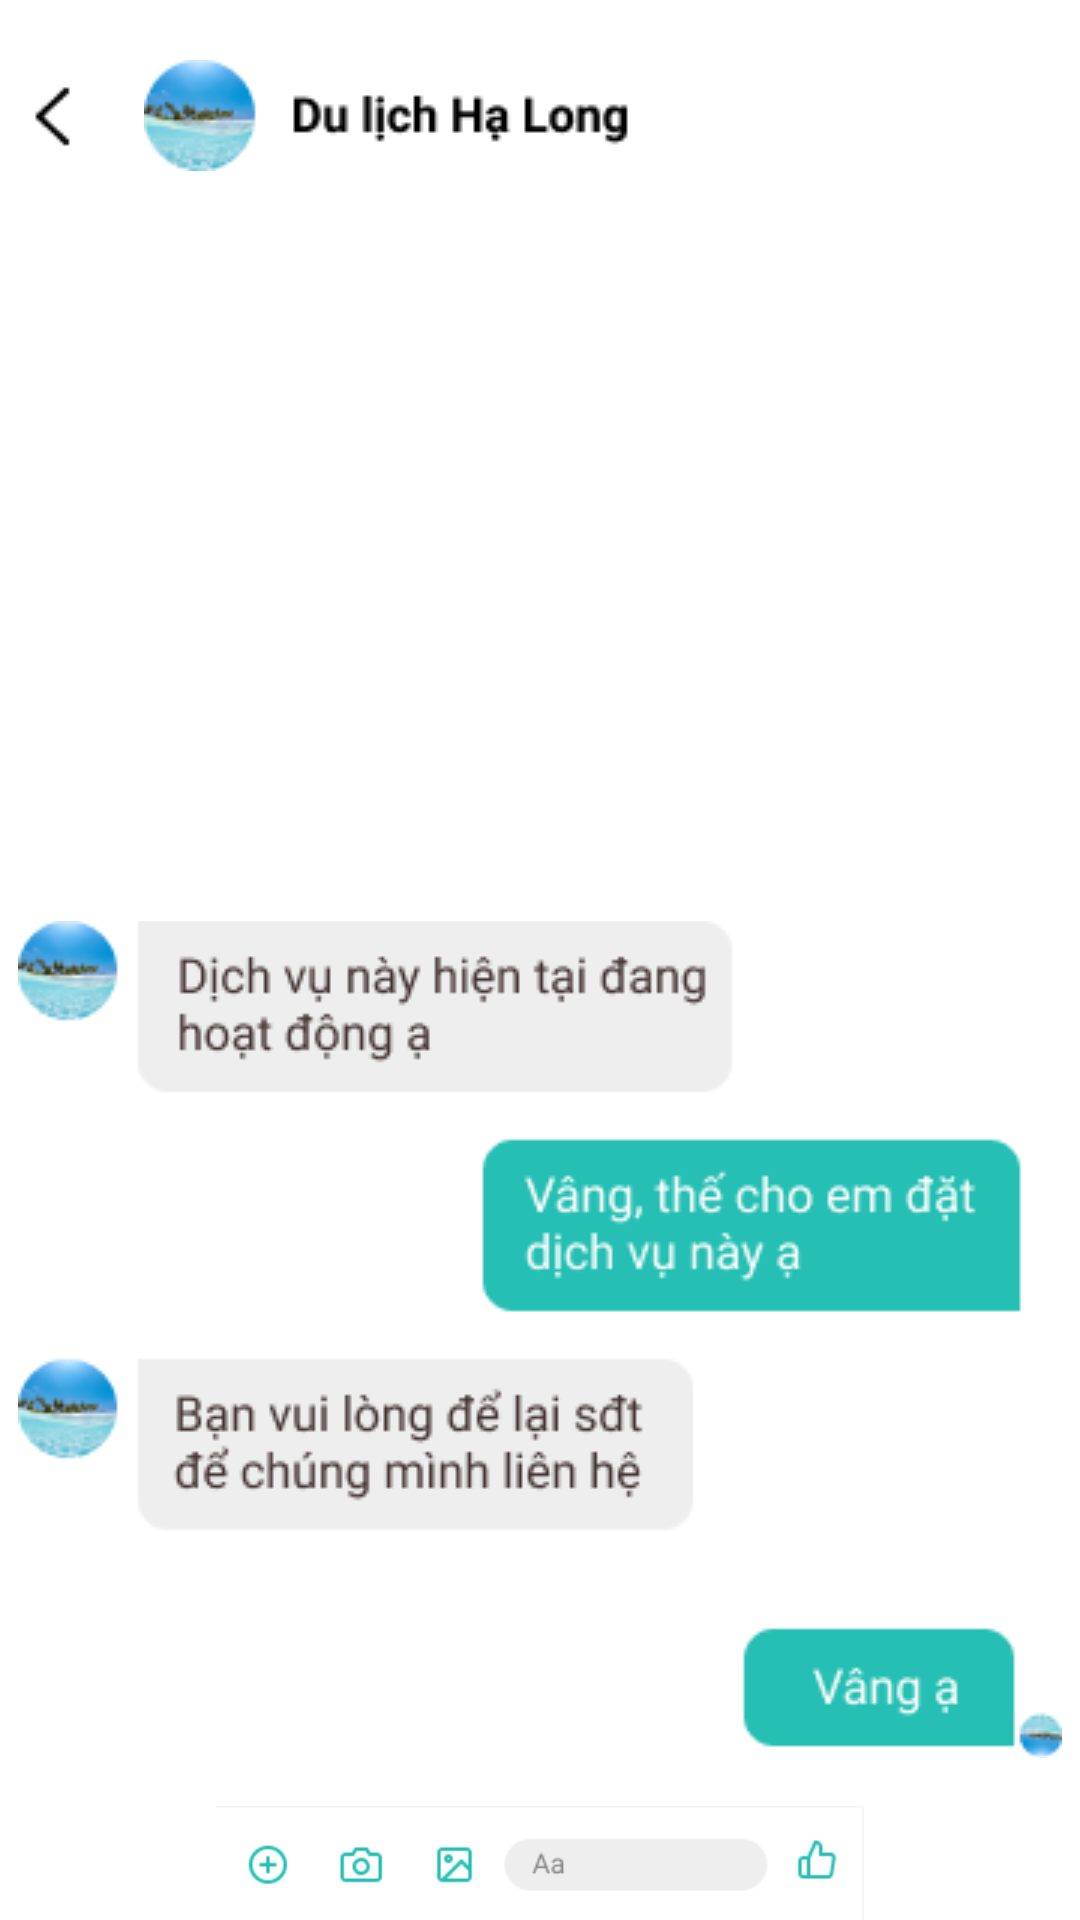

Where icons sit on this 1080×1920 app screen, as (x1, y1, x2, y2):
back: (35, 87, 70, 146)
